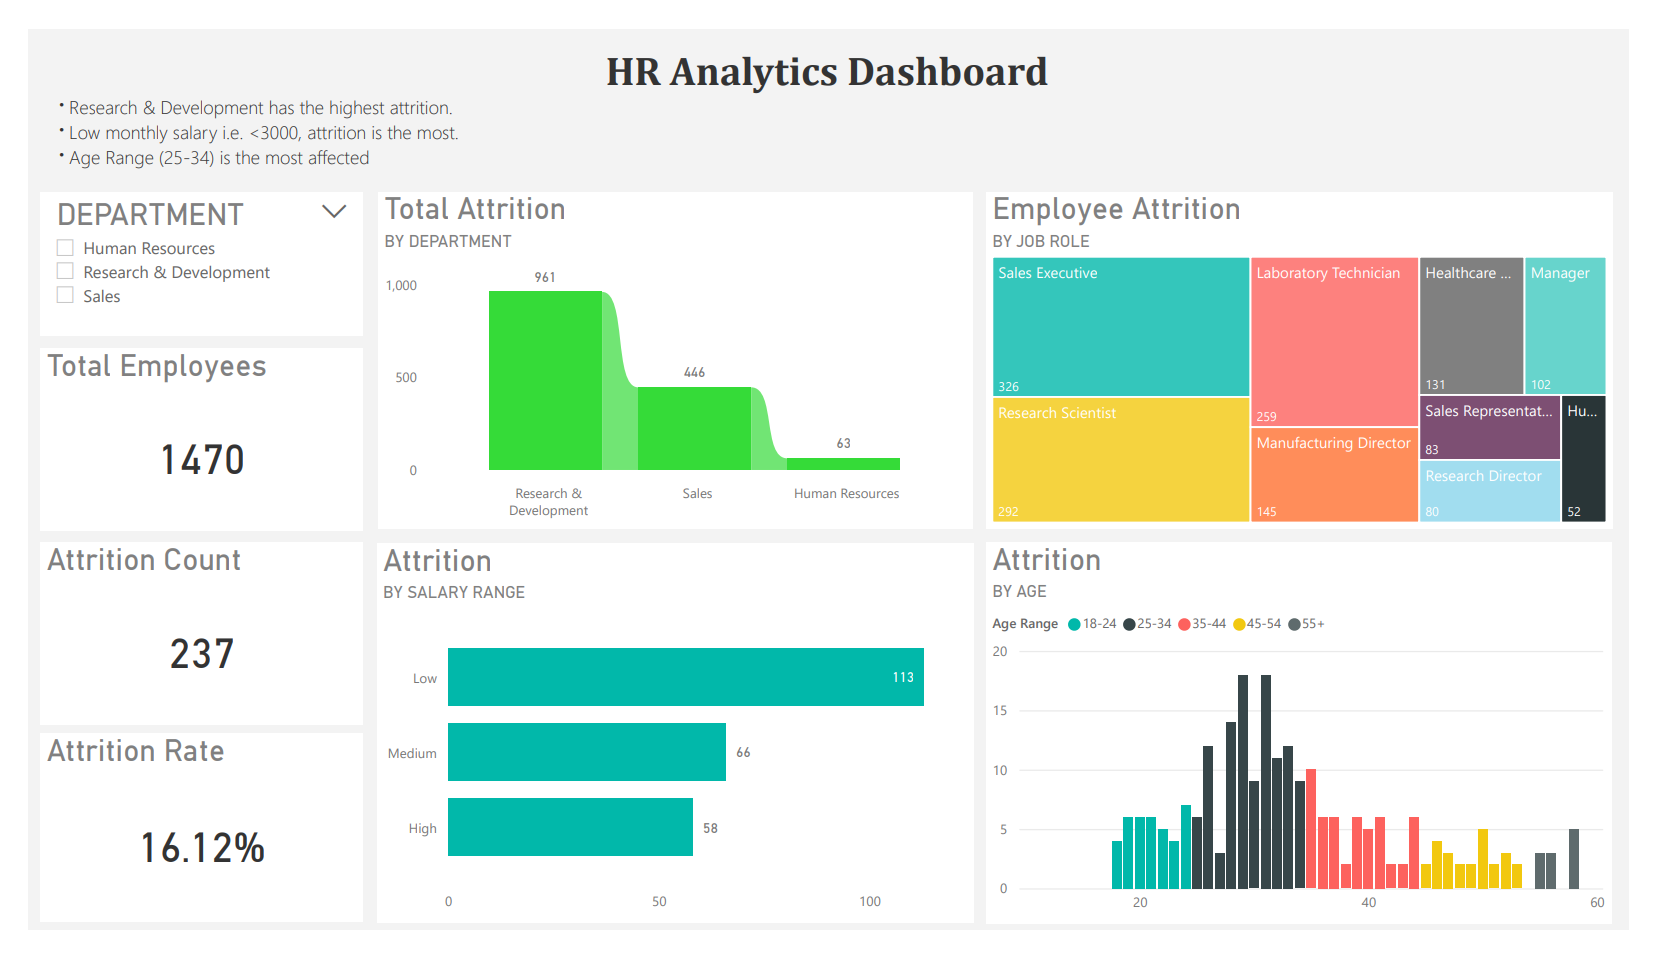

The page's visual inventory and layout, read from the dashboard file:
{"tool":"powerbi","page":{"name":"Page 1","canvas":[1280,720],"ordinal":0},"visuals":[{"type":"card","title":"Total Employees","fields":{"Values":["CountNonNull(hr_data.EmployeeCount)"]},"box":[9.6,255.2,258,145.5],"z":0},{"type":"card","title":"Attrition Count","fields":{"Values":["CountNonNull(hr_data.EmployeeNumber)"]},"box":[9.7,410.2,258.2,146],"z":1000},{"type":"card","title":"Attrition Rate","fields":{"Values":["hr_data.Attrition Rate"]},"box":[9.6,562.6,258,150.9],"z":2000},{"type":"columnChart","title":"Total Attrition ","fields":{"Category":["hr_data.Department"],"Y":["CountNonNull(hr_data.EmployeeNumber)"]},"box":[279.9,130.3,475.3,269],"z":3000},{"type":"treemap","title":"Employee Attrition ","fields":{"Group":["hr_data.JobRole"],"Values":["CountNonNull(hr_data.EmployeeNumber)"]},"box":[766.1,130.3,500.7,269],"z":4000},{"type":"slicer","fields":{"Values":["hr_data.Department"]},"box":[9.7,130.3,258.2,114.6],"z":5000},{"type":"clusteredBarChart","title":"Attrition","fields":{"Category":["hr_data.Salary Range"],"Y":["CountNonNull(hr_data.Attrition)"]},"box":[279.4,410.6,476.1,303.7],"z":6000},{"type":"textbox","box":[9.6,9.6,1258.3,108.4],"z":7000},{"type":"columnChart","title":"Attrition","fields":{"Category":["hr_data.Age"],"Y":["CountNonNull(hr_data.Attrition)"],"Series":["hr_data.Age Range"]},"box":[766.1,410.2,499.5,305.2],"z":8000}]}

Visuals, with their boxes in screenshot pixels (x1, y1, x2, y2), scaled from the page's 1280x720 canvas onto the 1656x957 screenshot:
"Total Employees" card: (left=12, top=339, right=346, bottom=533)
"Attrition Count" card: (left=13, top=545, right=347, bottom=739)
"Attrition Rate" card: (left=12, top=748, right=346, bottom=948)
"Total Attrition " columnChart: (left=362, top=173, right=977, bottom=531)
"Employee Attrition " treemap: (left=991, top=173, right=1639, bottom=531)
slicer - hr_data.Department: (left=13, top=173, right=347, bottom=326)
"Attrition" clusteredBarChart: (left=361, top=546, right=977, bottom=949)
textbox: (left=12, top=13, right=1640, bottom=157)
"Attrition" columnChart: (left=991, top=545, right=1637, bottom=951)
